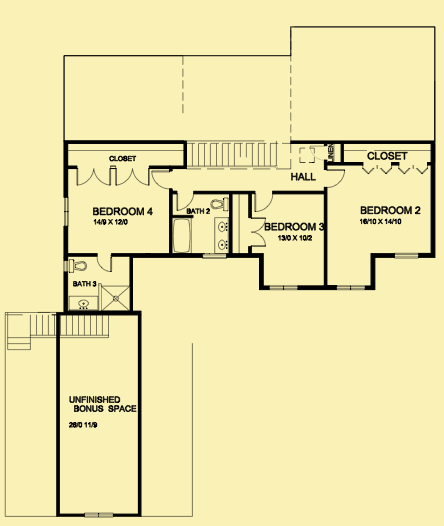door: (112, 165, 152, 188), (72, 166, 114, 187), (248, 217, 271, 249), (252, 190, 276, 214), (325, 165, 346, 190), (174, 191, 195, 213), (150, 170, 171, 191), (93, 252, 114, 272)
large_sink: (208, 194, 232, 216), (66, 257, 87, 274)
small_sink: (213, 215, 228, 252), (68, 297, 101, 309)
stairs: (4, 311, 110, 352), (185, 138, 279, 171)
tub: (171, 218, 192, 254)
window: (333, 284, 366, 293), (267, 282, 299, 291), (393, 253, 418, 260)
